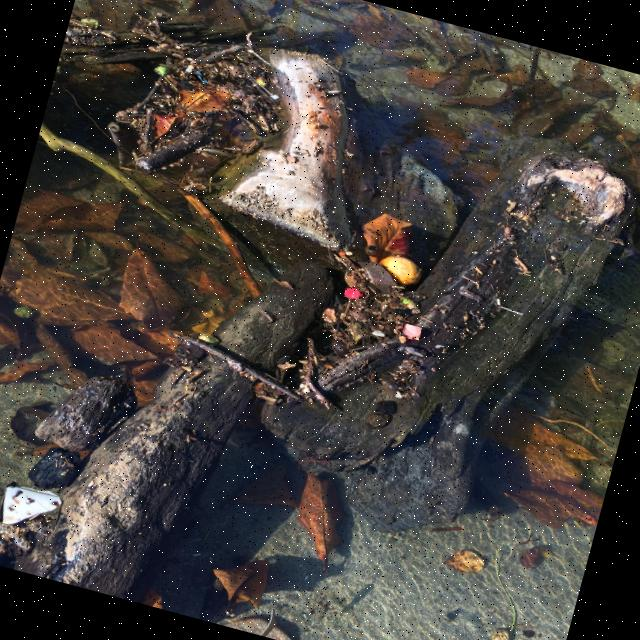Other plastic bottle: (2, 486, 61, 524), (192, 70, 206, 84)
Plastic bottle cap: (402, 325, 420, 338), (345, 287, 361, 299)
